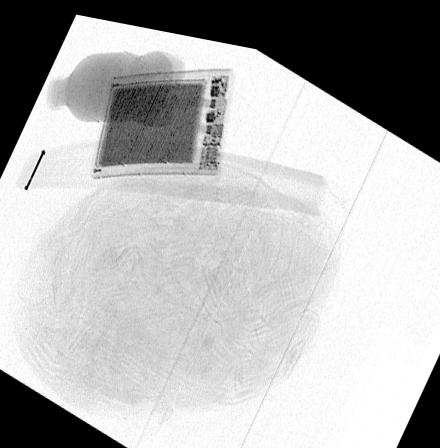Powerbank: (90, 61, 233, 177)
